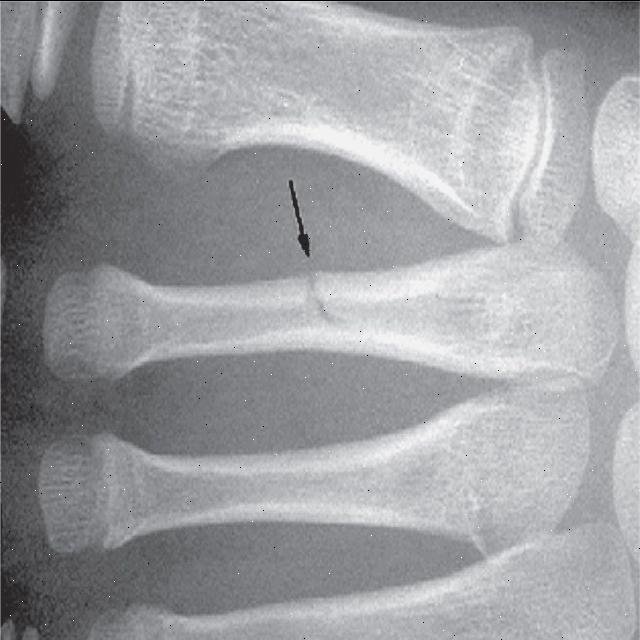bone: (277, 250, 371, 364)
